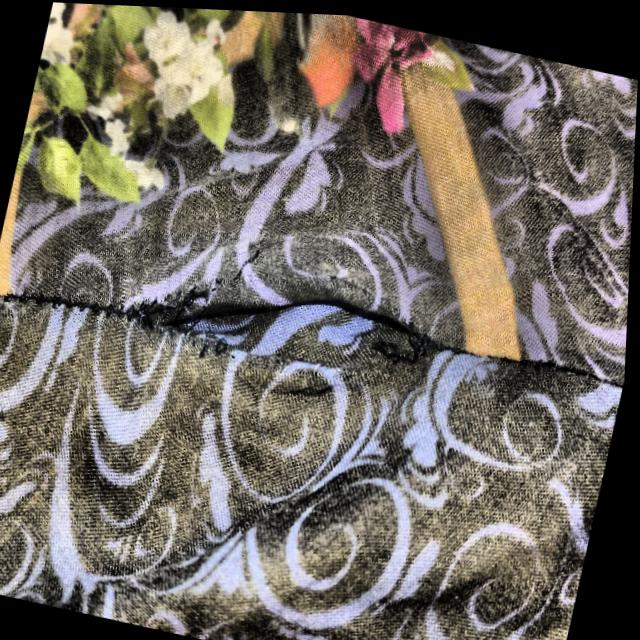seam: (91, 212, 464, 473)
